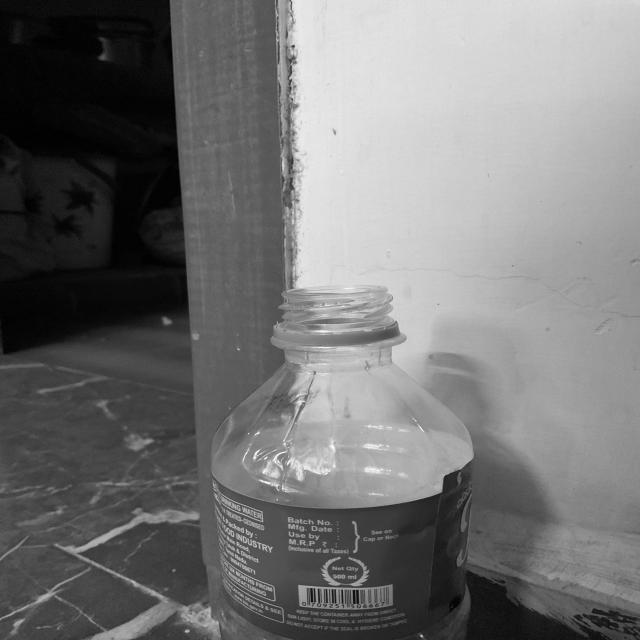open-cap: (271, 286, 403, 361)
